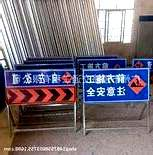sign: (5, 71, 76, 104), (83, 70, 149, 100)
